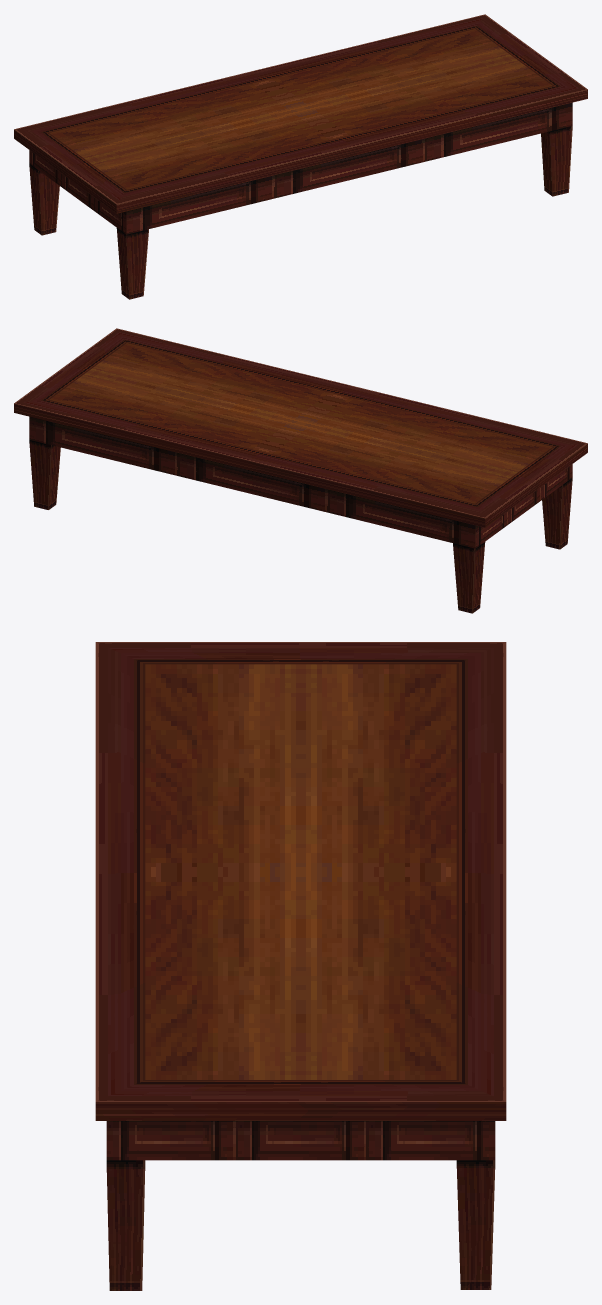
File: rect_wood00.fbx
3 views of the same model, one above another, from view 1: azimuth 30°, elevation 25°; view 2: azimuth 150°, elevation 25°; view 3: azimuth 270°, elevation 25° (orthographic). The views are drawn at different scales.
Visible parts, largest first — view 1: mesh_0; view 2: mesh_0; view 3: mesh_0.
Part boxes in pixels (<box>): mesh_0: <box>14,14,587,299</box>; mesh_0: <box>14,328,587,613</box>; mesh_0: <box>95,642,506,1290</box>.
Size of the model in its own units: 140 by 28.94 by 52.8.
Materials: 1 (1 with a texture image).
